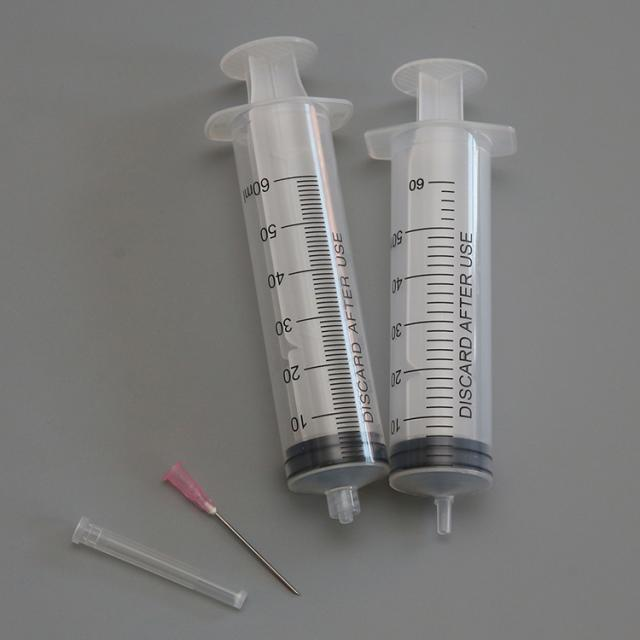B3: (182, 24, 395, 542), (360, 43, 535, 560)
